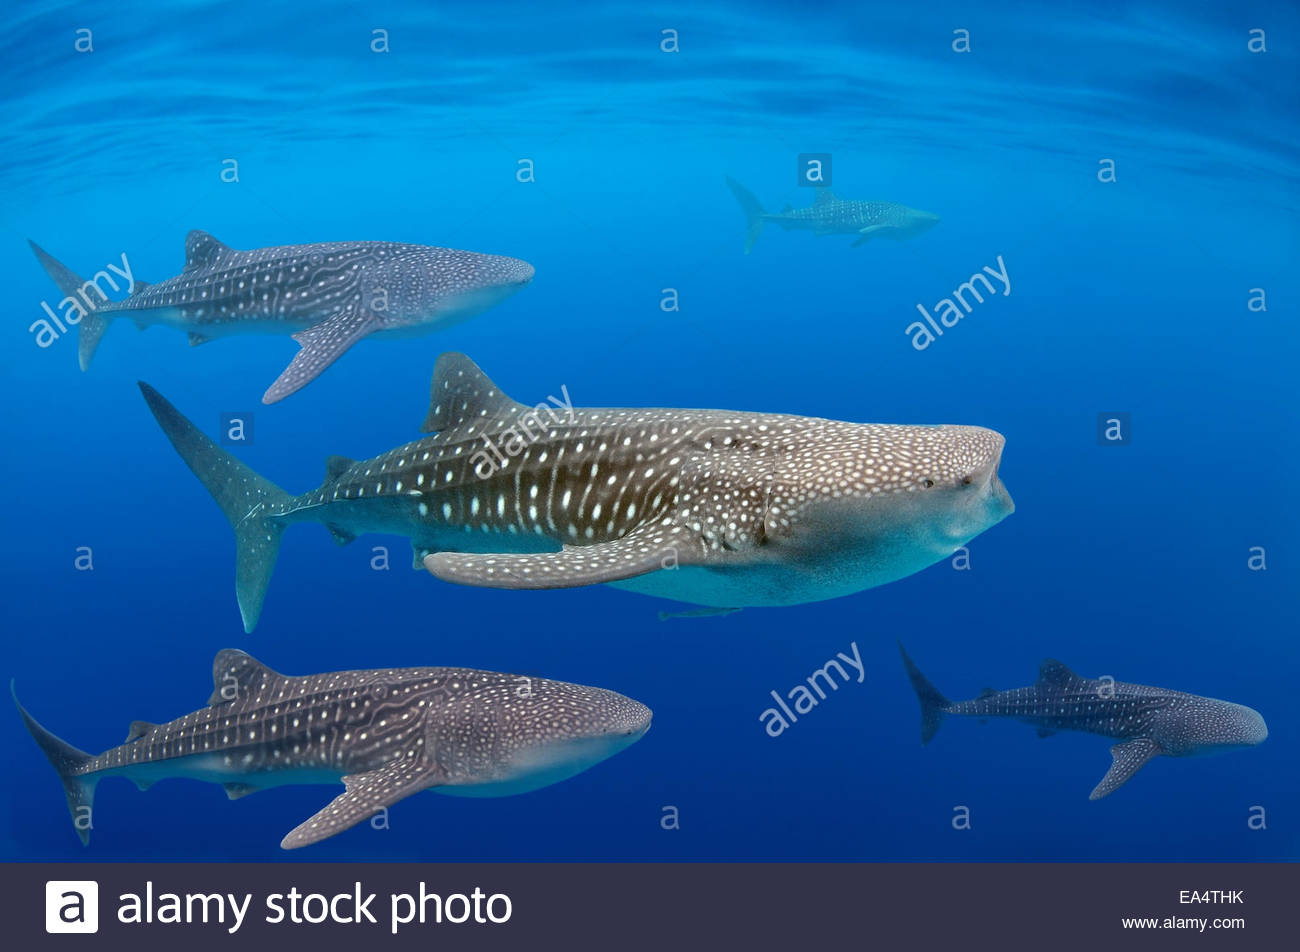Rhincodon_typusw: (138, 354, 1035, 625), (32, 626, 666, 891), (30, 186, 558, 398), (878, 622, 1295, 823), (693, 153, 970, 297)
